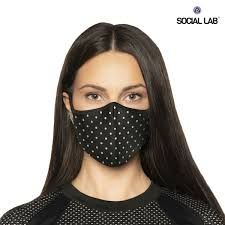with-mask: (60, 45, 176, 170)
